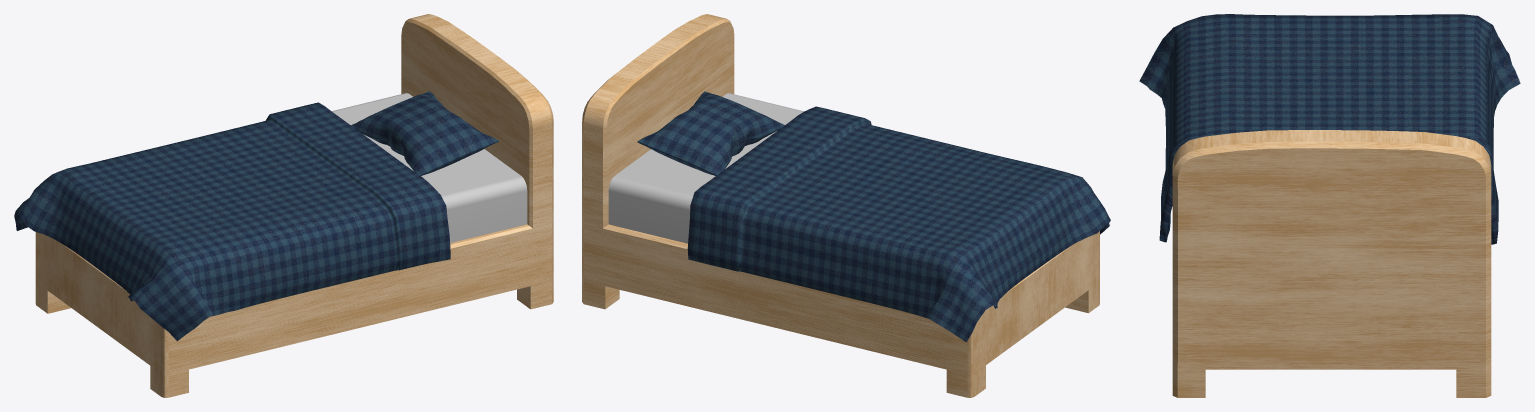
The model's file is bed_M.fbx.
The picture shows the model from 3 angles, left to right: view 1: azimuth 30°, elevation 25°; view 2: azimuth 150°, elevation 25°; view 3: azimuth 270°, elevation 25°; orthographic projection. The views are drawn at different scales.
Visible parts, largest first — view 1: group3_pPlane2; view 2: group3_pPlane2; view 3: group3_pPlane2.
Boxes of the visible parts, x1,y1,x2,y2 form: group3_pPlane2: (14,14,553,397); group3_pPlane2: (582,14,1110,397); group3_pPlane2: (1139,14,1520,397).
Size of the model in its own units: 0.5459 by 0.2641 by 0.359.
